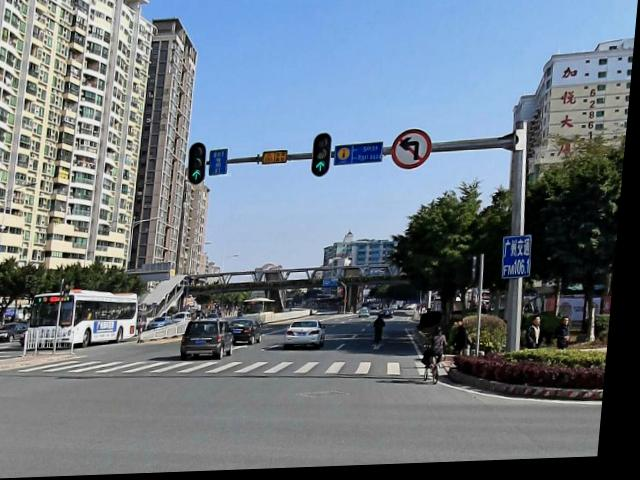not_turn_left: (390, 130, 437, 175)
